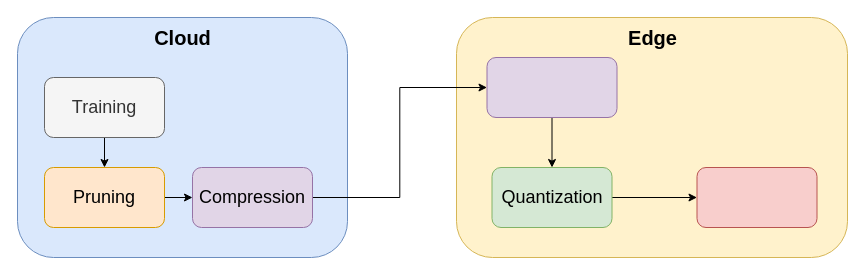
Some shapes in this 865 by 275 pixel diagram are drawn without their labels. Each missing label, with the centre of its shape:
Accelerator engine: point 756,197
Decompression: point 551,87
